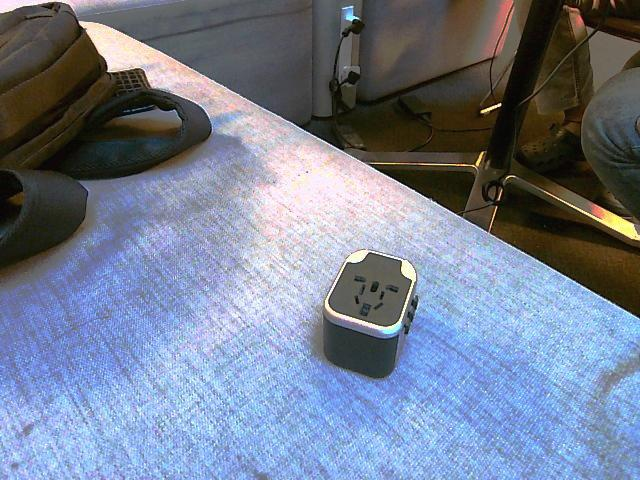adapter: (321, 248, 419, 378)
